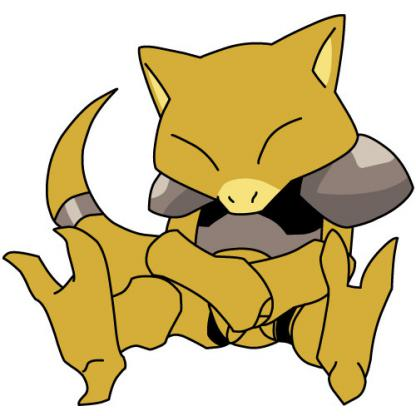Abra: (12, 17, 410, 415)
